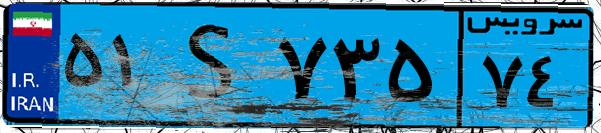1: (110, 28, 158, 98)
3: (330, 28, 385, 110)
4: (525, 38, 570, 115)
5: (385, 28, 445, 110), (57, 26, 110, 100)
7: (270, 28, 330, 110), (475, 38, 525, 113)
S: (158, 12, 270, 120)
